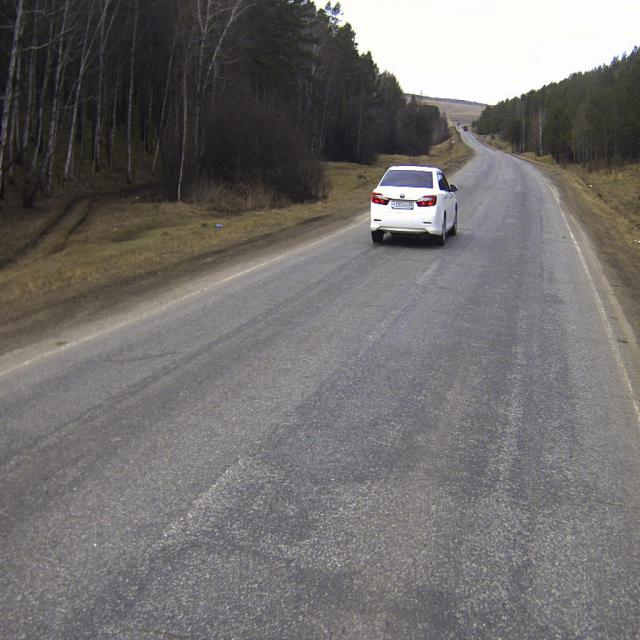road: (0, 132, 640, 639)
